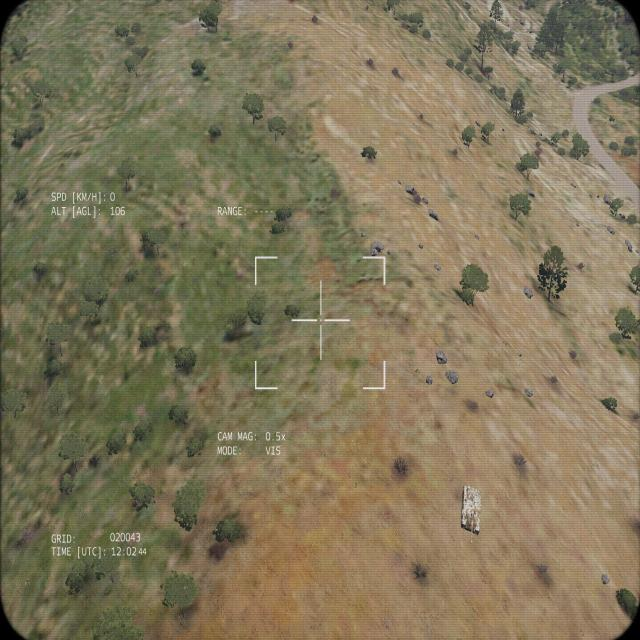tank: (459, 482, 482, 544)
